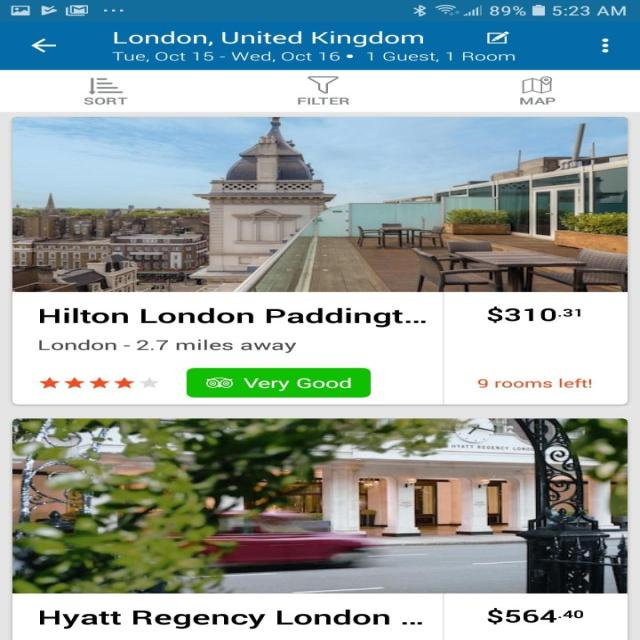Icon: (38, 377, 160, 389), (88, 78, 124, 95), (521, 76, 552, 94), (31, 38, 57, 53), (484, 30, 508, 43), (599, 36, 608, 53)
Image: (11, 116, 626, 292), (12, 418, 628, 593), (306, 76, 338, 94)
Text: (39, 308, 426, 328), (39, 609, 422, 629), (113, 30, 423, 48), (111, 52, 515, 62), (38, 339, 296, 353), (486, 306, 580, 323), (486, 608, 583, 624), (476, 378, 592, 388), (296, 97, 349, 105), (84, 97, 128, 105), (519, 96, 556, 105)
TextButton: (186, 367, 370, 398)
